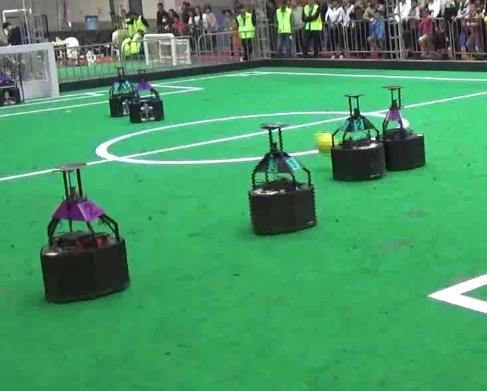robot: (32, 160, 132, 304), (239, 119, 320, 238), (330, 89, 387, 183), (374, 83, 429, 173), (124, 66, 169, 125)
